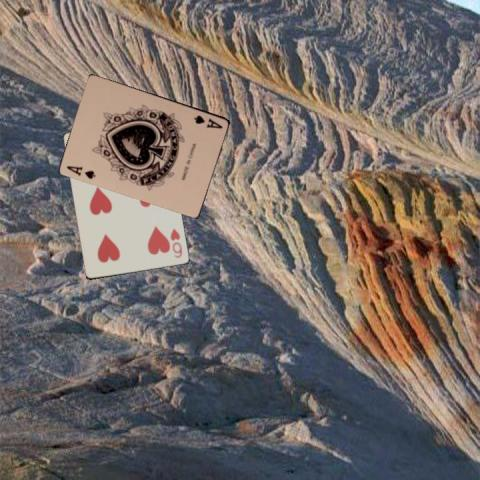6h: (167, 226, 184, 260)
As: (191, 112, 224, 130), (64, 163, 97, 180)
